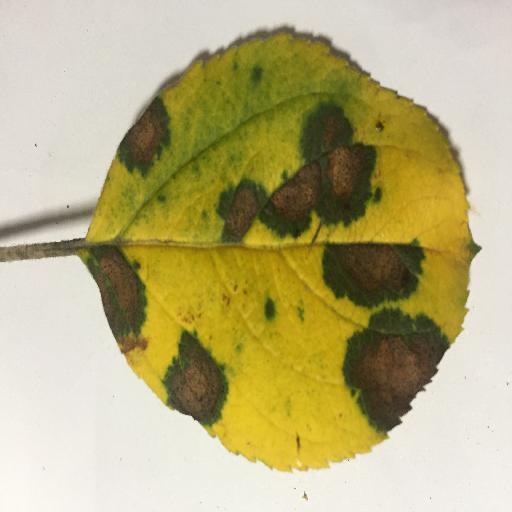Brown_Spot: (250, 112, 369, 240), (350, 328, 431, 420), (320, 240, 415, 301), (167, 337, 219, 430), (92, 247, 140, 346), (113, 111, 173, 172), (214, 189, 260, 244)
